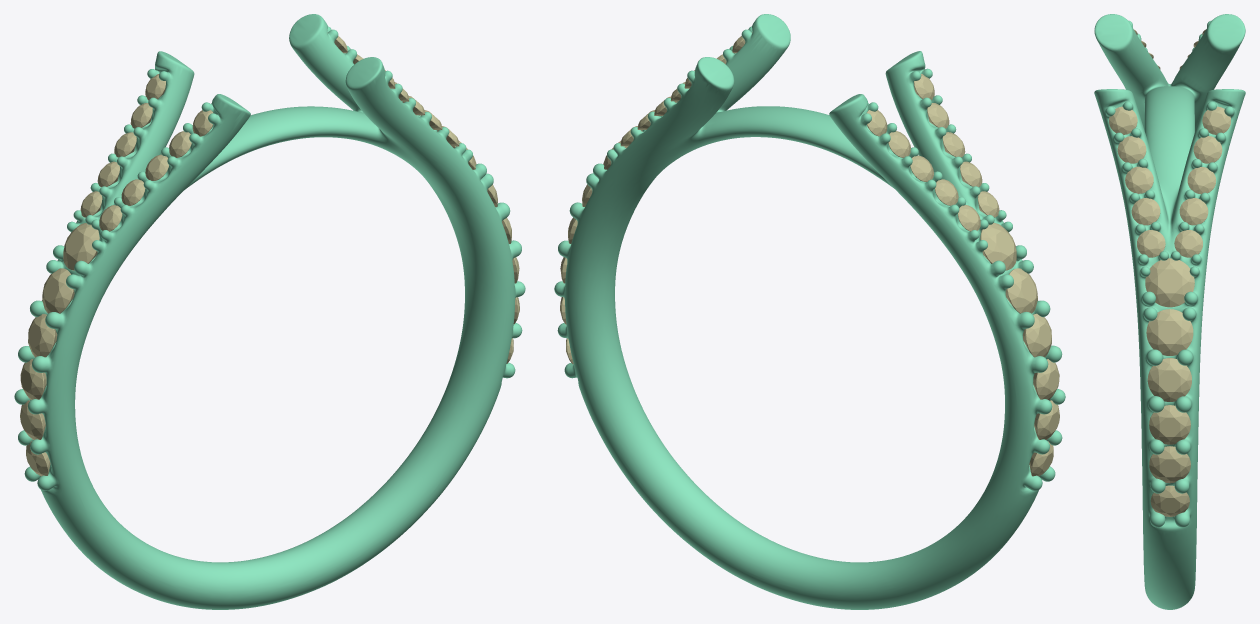
3 renders of one model, left to right at view 1: azimuth 30°, elevation 25°; view 2: azimuth 150°, elevation 25°; view 3: azimuth 270°, elevation 25°, orthographic. The views are drawn at different scales.
Visible parts, largest first — view 1: Metal02, Diamond_Gem, Diamond_Gem.001, Diamond_Gem.002, Diamond_Gem.004; view 2: Metal02, Diamond_Gem, Diamond_Gem.001, Diamond_Gem.002, Diamond_Gem.004; view 3: Metal02, Diamond_Gem.011, Diamond_Gem.010, Diamond_Gem.009, Diamond_Gem.007, Diamond_Gem.008, Diamond_Gem.006, Diamond_Gem.015, Diamond_Gem.013, Diamond_Gem.014, Diamond_Gem.024, Diamond_Gem.025 (+5 smaller).
Part boxes in pixels (left/top/right/bottom): Metal02: left=14, top=14, right=525, bottom=609; Diamond_Gem: left=63, top=223, right=99, bottom=270; Diamond_Gem.001: left=42, top=268, right=74, bottom=313; Diamond_Gem.002: left=28, top=314, right=57, bottom=357; Diamond_Gem.004: left=20, top=359, right=46, bottom=399; Metal02: left=554, top=14, right=1065, bottom=609; Diamond_Gem: left=980, top=223, right=1016, bottom=270; Diamond_Gem.001: left=1005, top=268, right=1037, bottom=313; Diamond_Gem.002: left=1022, top=313, right=1051, bottom=357; Diamond_Gem.004: left=1033, top=359, right=1059, bottom=399; Metal02: left=1094, top=14, right=1245, bottom=609; Diamond_Gem.011: left=1145, top=258, right=1194, bottom=307; Diamond_Gem.010: left=1146, top=309, right=1193, bottom=355; Diamond_Gem.009: left=1147, top=358, right=1191, bottom=401; Diamond_Gem.007: left=1149, top=405, right=1190, bottom=444; Diamond_Gem.008: left=1149, top=446, right=1190, bottom=483; Diamond_Gem.006: left=1150, top=485, right=1189, bottom=516; Diamond_Gem.015: left=1179, top=198, right=1208, bottom=225; Diamond_Gem.013: left=1131, top=198, right=1160, bottom=225; Diamond_Gem.014: left=1137, top=230, right=1165, bottom=257; Diamond_Gem.024: left=1193, top=136, right=1222, bottom=163; Diamond_Gem.025: left=1117, top=136, right=1146, bottom=163.
Size of the model in its own units: 21.44 by 22.53 by 5.8.
